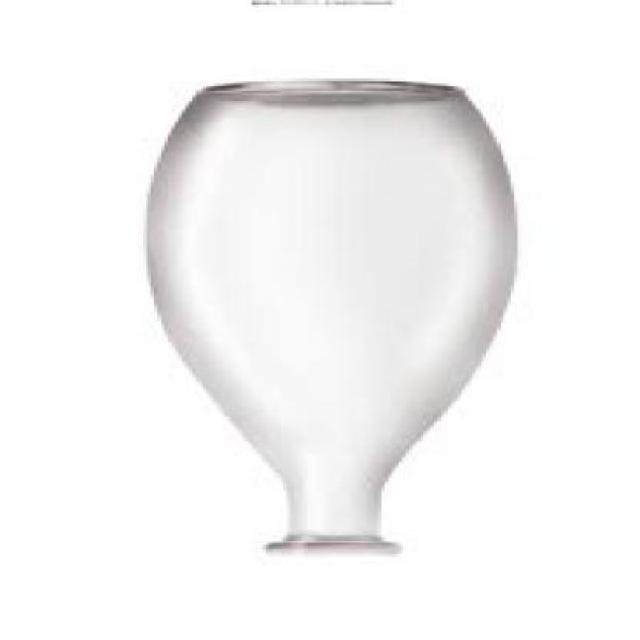glass: (140, 85, 514, 557)
